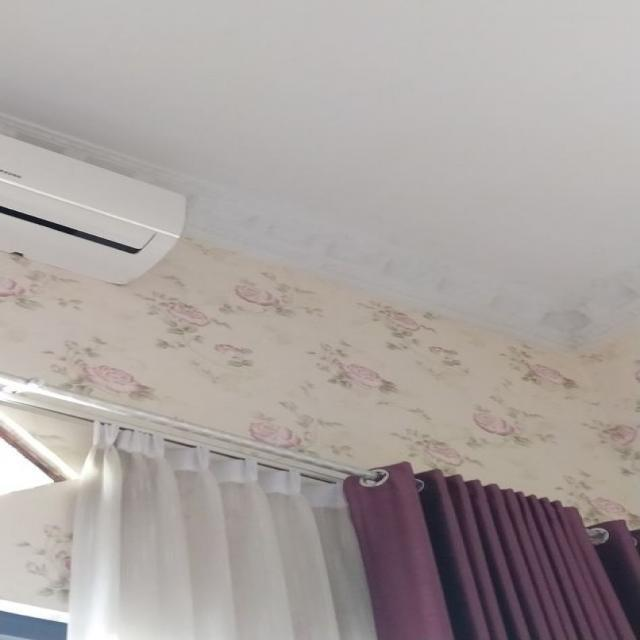AC: (0, 132, 188, 286)
